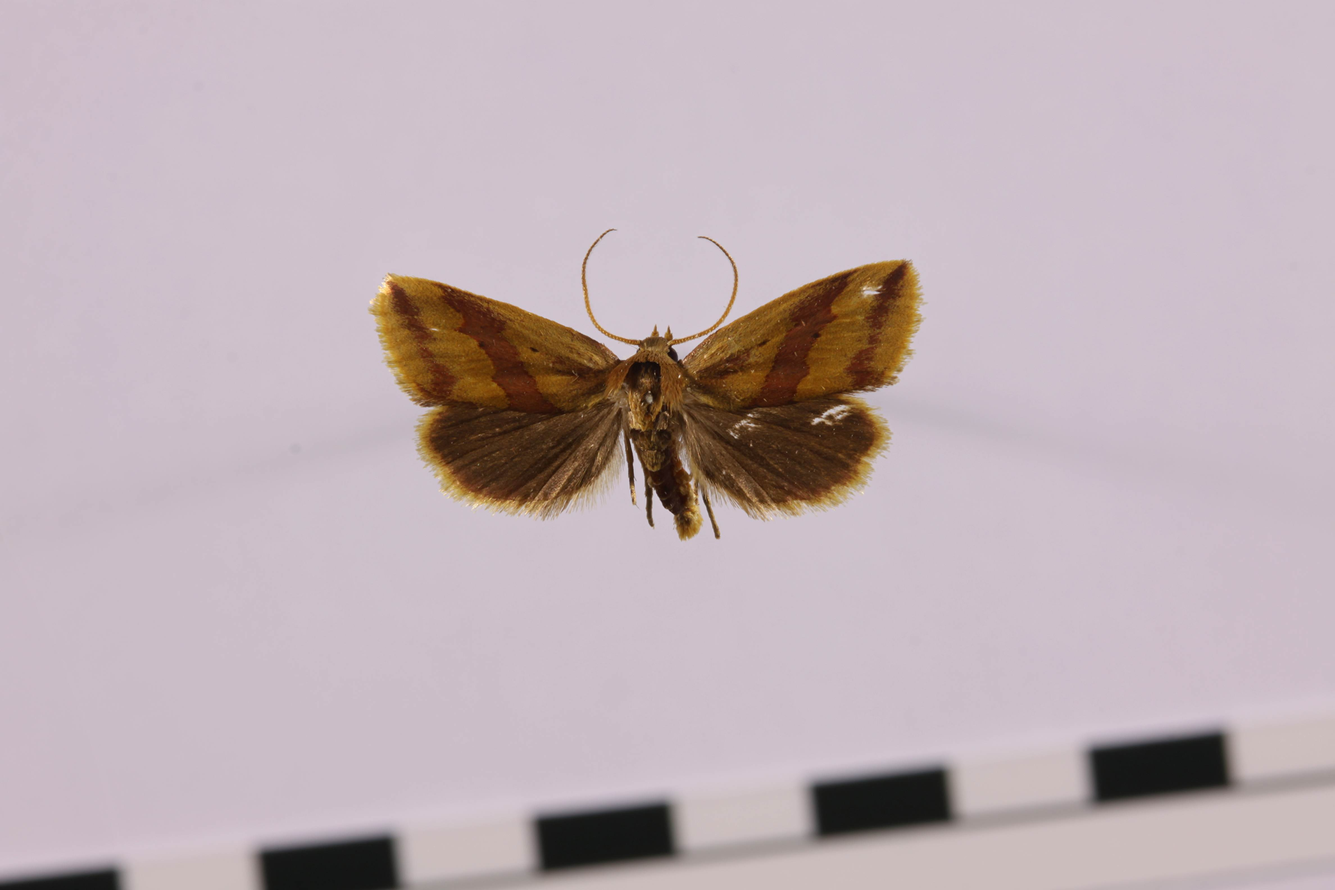Noctuidae: (367, 226, 925, 545)
